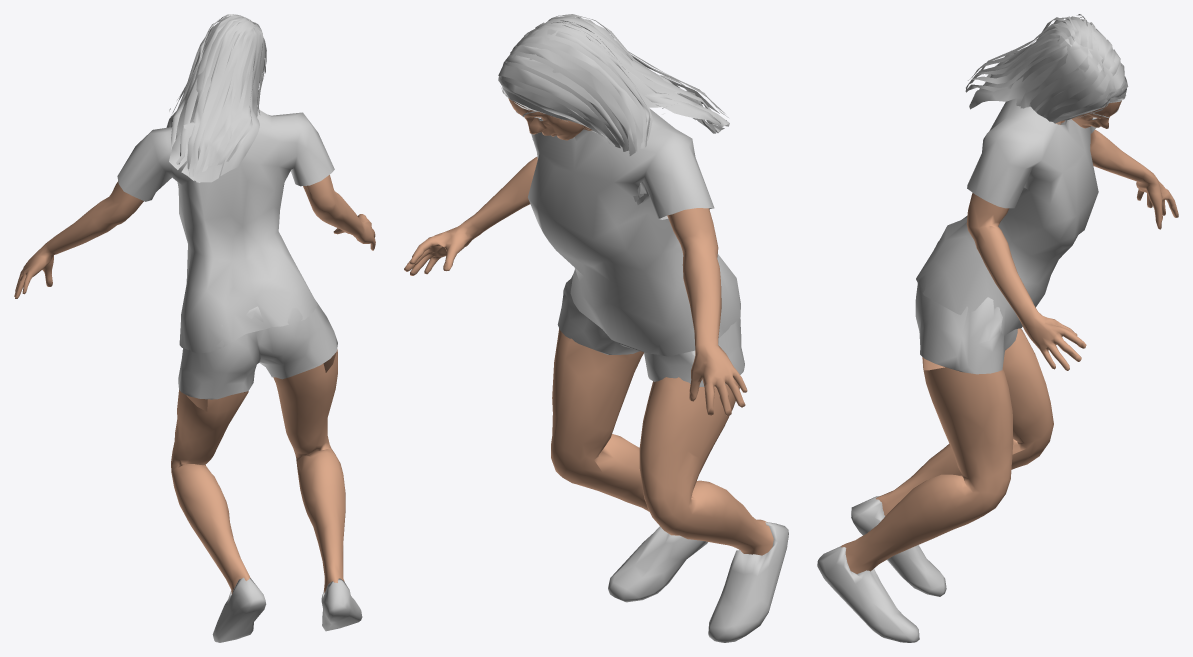
File: player2att_000018.obj
The picture shows the model from 3 angles, left to right: view 1: azimuth 30°, elevation 25°; view 2: azimuth 150°, elevation 25°; view 3: azimuth 270°, elevation 25°; orthographic projection. The views are drawn at different scales.
Visible parts, largest first — view 1: player2:tshirt02, player2:Body, player2:fhair01, player2:short01, player2:shoes02; view 2: player2:Body, player2:tshirt02, player2:fhair01, player2:shoes02, player2:short01; view 3: player2:Body, player2:tshirt02, player2:fhair01, player2:shoes02, player2:short01.
Part boxes in pixels (x1,y1,x2,y2): player2:tshirt02: (117, 109, 334, 353); player2:Body: (14, 175, 375, 593); player2:fhair01: (166, 14, 266, 182); player2:short01: (178, 300, 337, 399); player2:shoes02: (212, 577, 362, 642); player2:Body: (404, 98, 773, 555); player2:tshirt02: (528, 108, 740, 356); player2:fhair01: (498, 14, 729, 204); player2:shoes02: (608, 522, 788, 642); player2:short01: (557, 274, 744, 386); player2:Body: (841, 100, 1178, 573); player2:tshirt02: (916, 98, 1098, 335); player2:fhair01: (965, 14, 1128, 124); player2:shoes02: (817, 495, 946, 642); player2:short01: (915, 275, 1017, 374).
Size of the model in its own units: 9.1 by 15.15 by 8.13.
